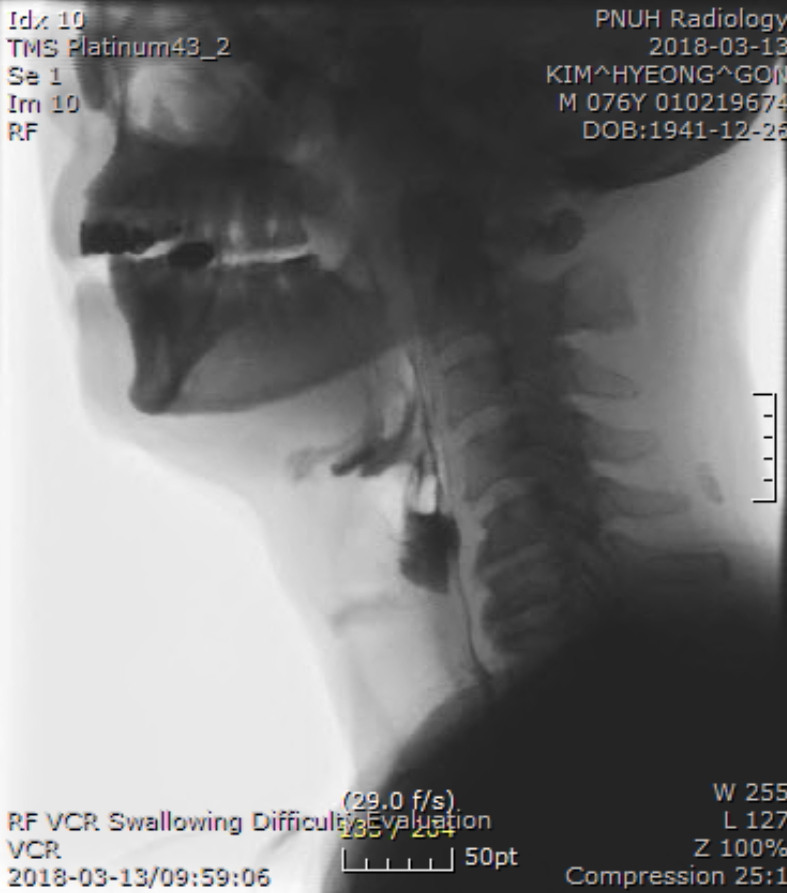dros: (424, 526, 484, 614)
food: (316, 394, 476, 627)
uros: (323, 423, 404, 491)
